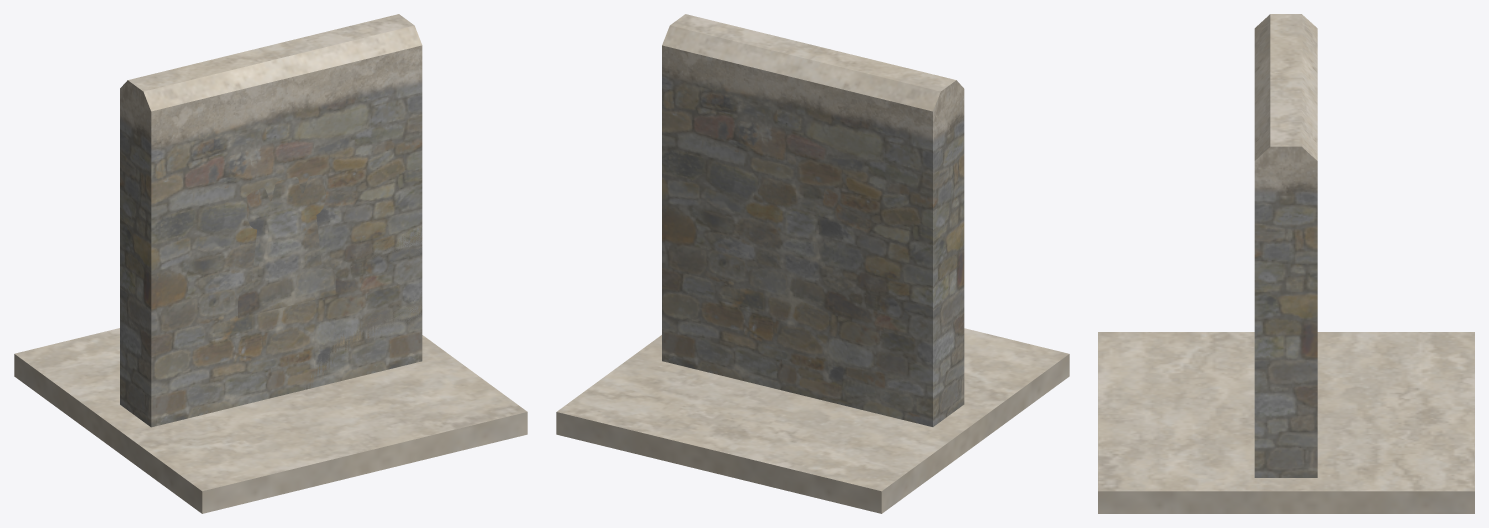
File: Ceilling.glb
3 views of the same model, side by side, from view 1: azimuth 30°, elevation 25°; view 2: azimuth 150°, elevation 25°; view 3: azimuth 270°, elevation 25° (orthographic).
Parts seen in each view (by area): view 1: Wall_wHole, Ceilling, Wall; view 2: Wall, Ceilling, Wall_wHole; view 3: Ceilling, Wall, Wall_wHole.
Boxes of the visible parts, box(x1,y1,x2,y2) form: Wall_wHole: box(120, 14, 422, 427); Ceilling: box(14, 328, 527, 513); Wall: box(120, 15, 422, 426); Wall: box(662, 16, 964, 426); Ceilling: box(556, 328, 1069, 513); Wall_wHole: box(662, 14, 964, 426); Ceilling: box(1098, 332, 1474, 513); Wall: box(1254, 14, 1317, 477); Wall_wHole: box(1254, 14, 1317, 477).
Bounding box in the file's own units: 0.03 × 0.0311 × 0.03.
Materials: 3 (3 with a texture image).
